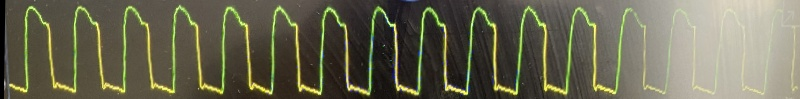normal_pressure: (0, 0, 790, 99)
